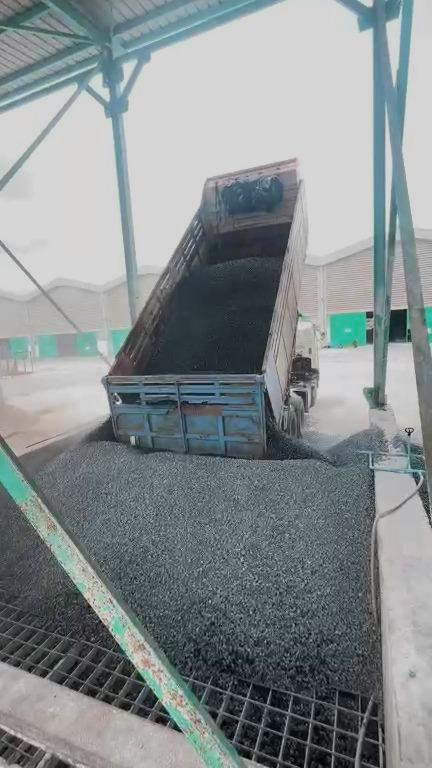gravel: (24, 413, 391, 691), (1, 489, 104, 641), (150, 259, 278, 371)
sand: (1, 402, 74, 453)
